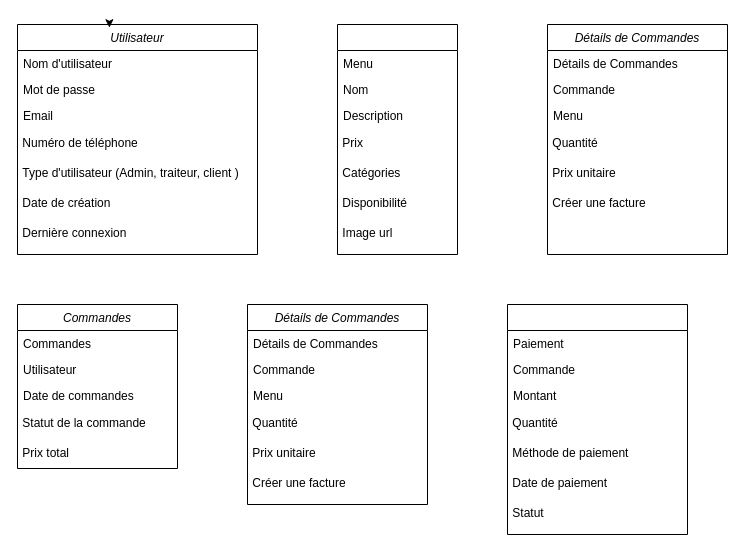
This 745x552 diagram has some shape labels left out. Here are the shapes that lost their labels. From the top down, the box of each, then its label:
(336, 24, 458, 254): Les plats (Menu)
(506, 304, 688, 534): Détails de paiements
